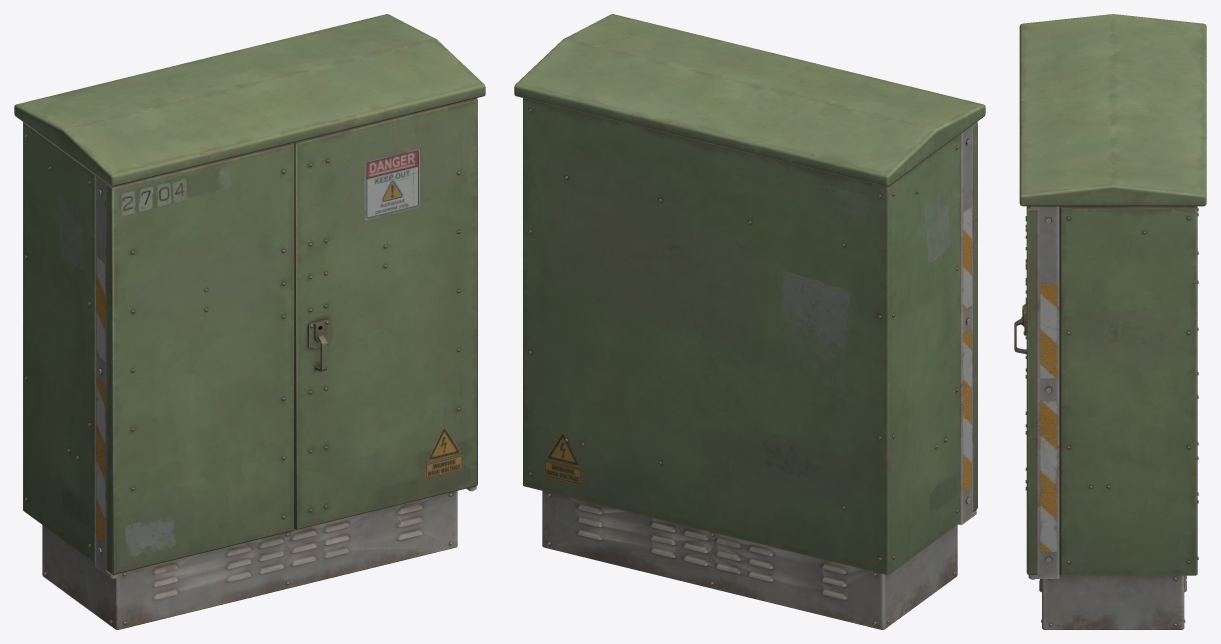
File: utility_box_02.glb
The picture shows the model from 3 angles, left to right: view 1: azimuth 30°, elevation 25°; view 2: azimuth 150°, elevation 25°; view 3: azimuth 270°, elevation 25°; orthographic projection. The views are drawn at different scales.
Parts seen in each view (by area): view 1: utility_box_02; view 2: utility_box_02; view 3: utility_box_02.
Boxes of the visible parts, box(x1,y1,x2,y2) form: utility_box_02: box(14, 14, 485, 629); utility_box_02: box(514, 14, 985, 629); utility_box_02: box(1014, 14, 1206, 629).
Size of the model in its own units: 0.92 by 1.12 by 0.4319.
1 material, 1 textured.
